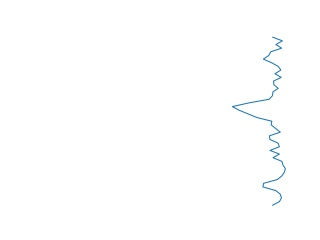interdistributaryEstuary: (227, 36, 296, 205)
